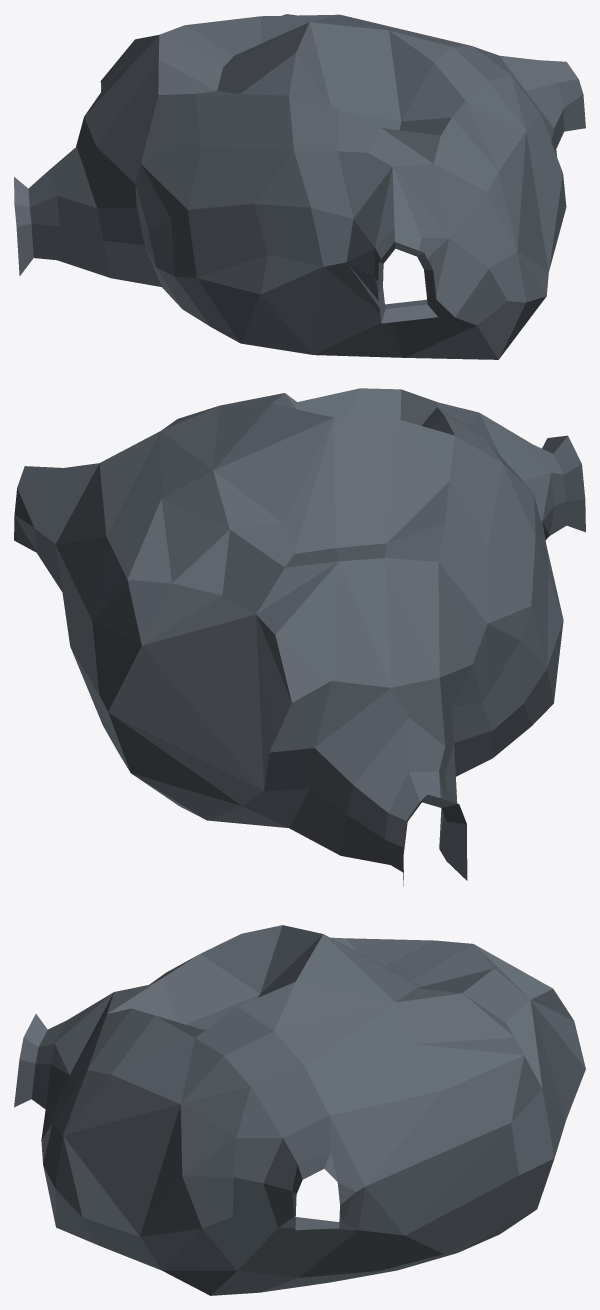
File: Dome-3exits-07.fbx
3 views of the same model, one above another, from view 1: azimuth 30°, elevation 25°; view 2: azimuth 150°, elevation 25°; view 3: azimuth 270°, elevation 25° (orthographic). The views are drawn at different scales.
Parts seen in each view (by area): view 1: Dome-3exits-07; view 2: Dome-3exits-07; view 3: Dome-3exits-07.
Boxes of the visible parts, <box> form: Dome-3exits-07: <box>14,14,585,359</box>; Dome-3exits-07: <box>14,388,585,886</box>; Dome-3exits-07: <box>14,925,585,1295</box>.
Bounding box in the file's own units: 2309 × 2225 × 1257.
